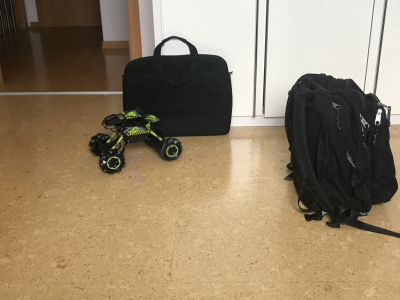remote control car: (84, 106, 183, 177)
